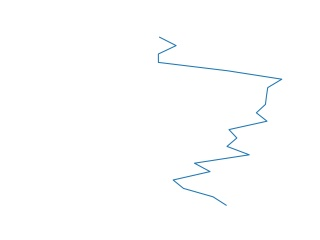floodPlain: (155, 36, 283, 208)
